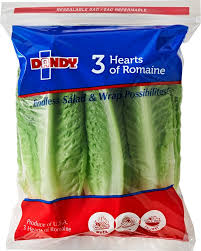Lettuce: (9, 20, 190, 251)
